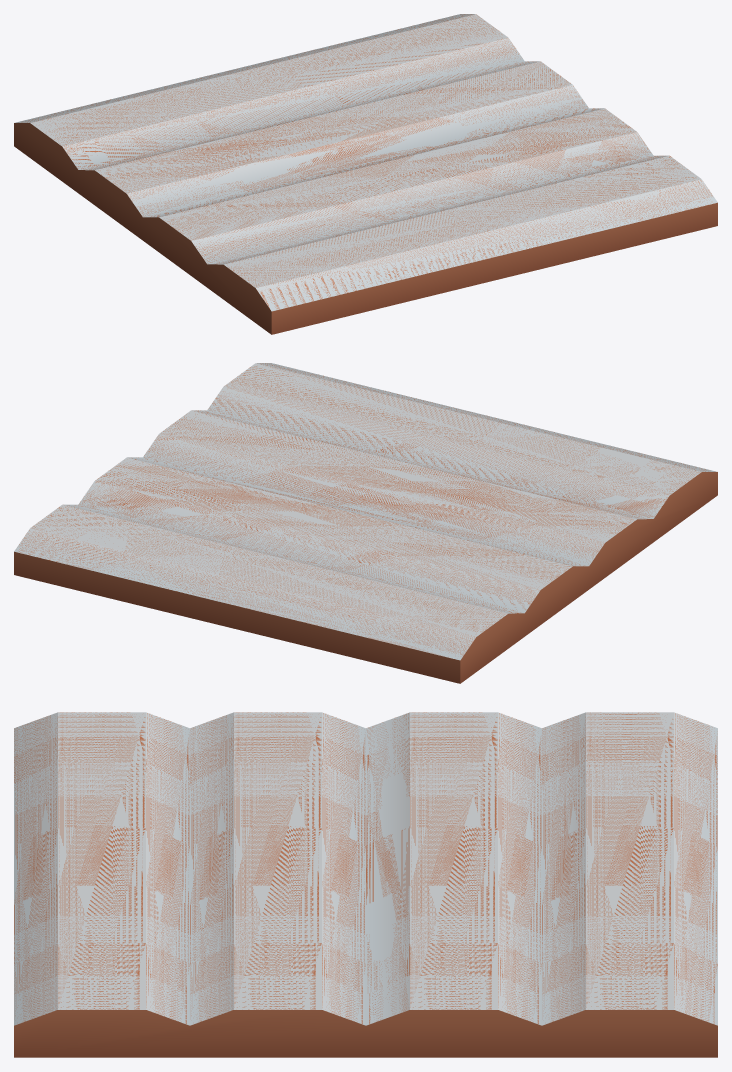
Rendered from floor-wood-snow.glb.
3 views of the same model, one above another, from view 1: azimuth 30°, elevation 25°; view 2: azimuth 150°, elevation 25°; view 3: azimuth 270°, elevation 25° (orthographic). The views are drawn at different scales.
Parts seen in each view (by area): view 1: floor-wood-snow; view 2: floor-wood-snow; view 3: floor-wood-snow.
Boxes of the visible parts, box(x1,y1,x2,y2) form: floor-wood-snow: box(14, 14, 717, 334); floor-wood-snow: box(14, 363, 717, 683); floor-wood-snow: box(14, 712, 717, 1057).
Bounding box in the file's own units: 1 × 0.075 × 1.
